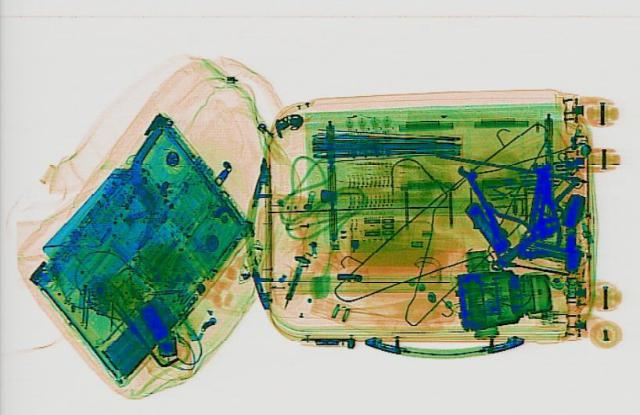Wrench: (454, 162, 514, 251)
